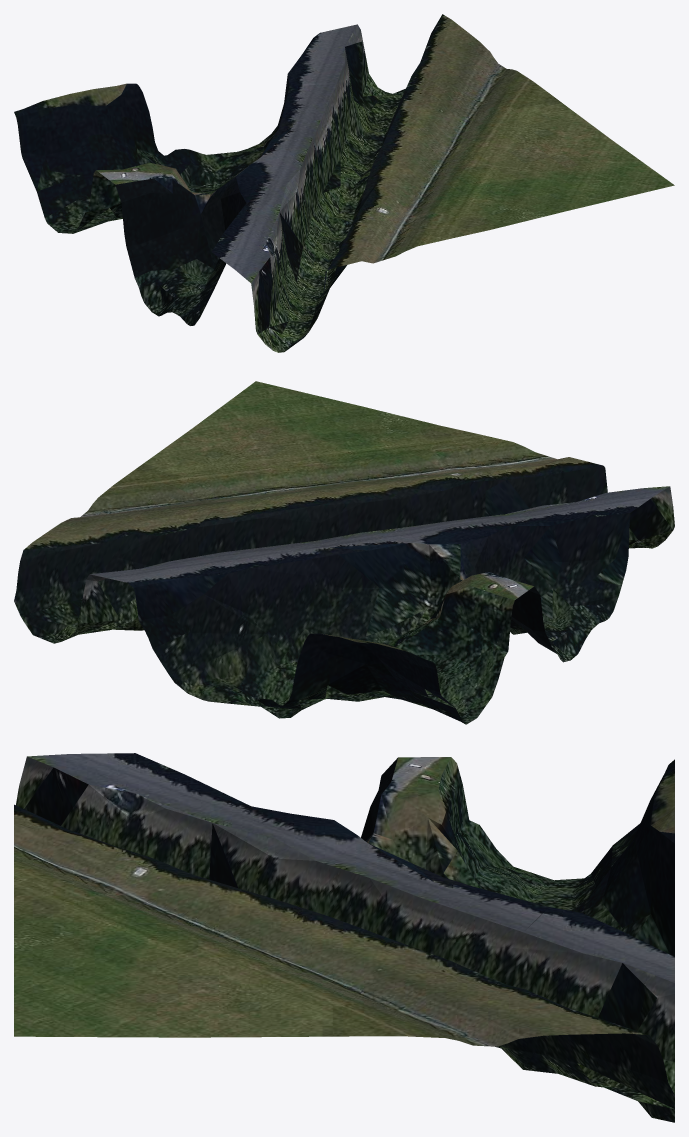
Rendered from map_15_8179_13788.dae.
3 renders of one model, top to bottom at view 1: azimuth 30°, elevation 25°; view 2: azimuth 150°, elevation 25°; view 3: azimuth 270°, elevation 25°, orthographic. The views are drawn at different scales.
Parts seen in each view (by area): view 1: Ter0; view 2: Ter0; view 3: Ter0.
Part boxes in pixels (bbox=[...]): Ter0: bbox=[14, 14, 674, 352]; Ter0: bbox=[14, 381, 674, 724]; Ter0: bbox=[14, 753, 674, 1122].
Size of the model in its own units: 63.87 by 63.88 by 16.09.
6 materials, 6 textured.
